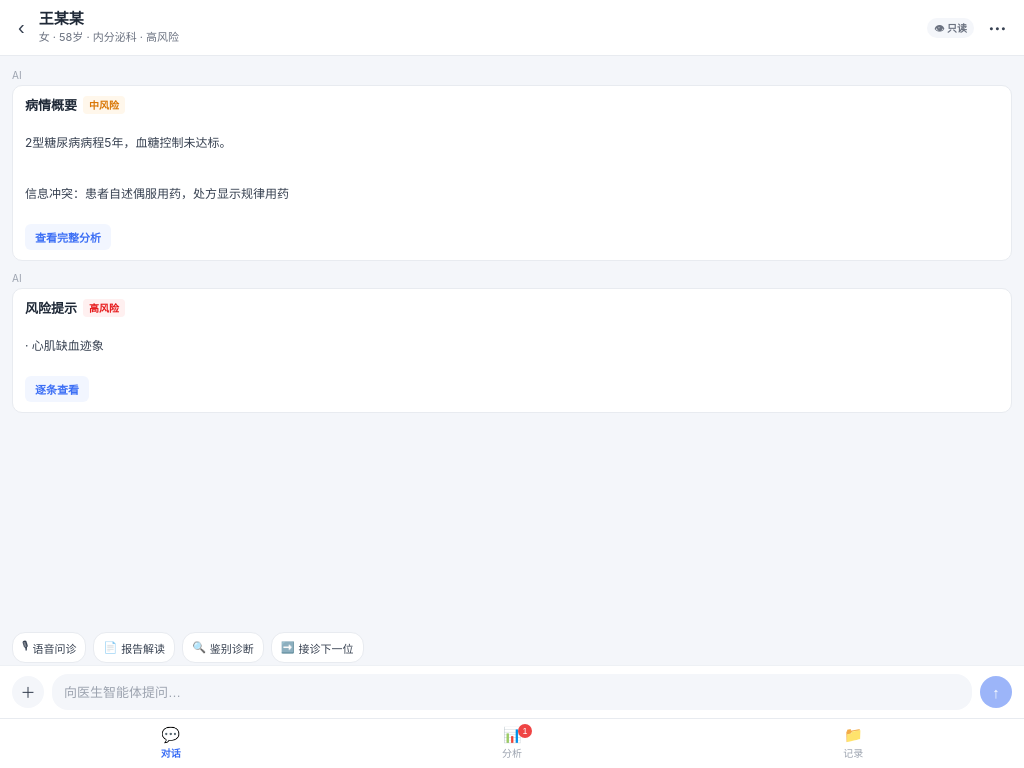
Test: 移动端工作站 · ＋ 菜单 › 点「预警评估」跳到分析页并展开那一块
What coordinates should you click on to do the following:
click the button "⋯"
I would click on:
 (997, 28)
Its box is [982,13,1012,43].
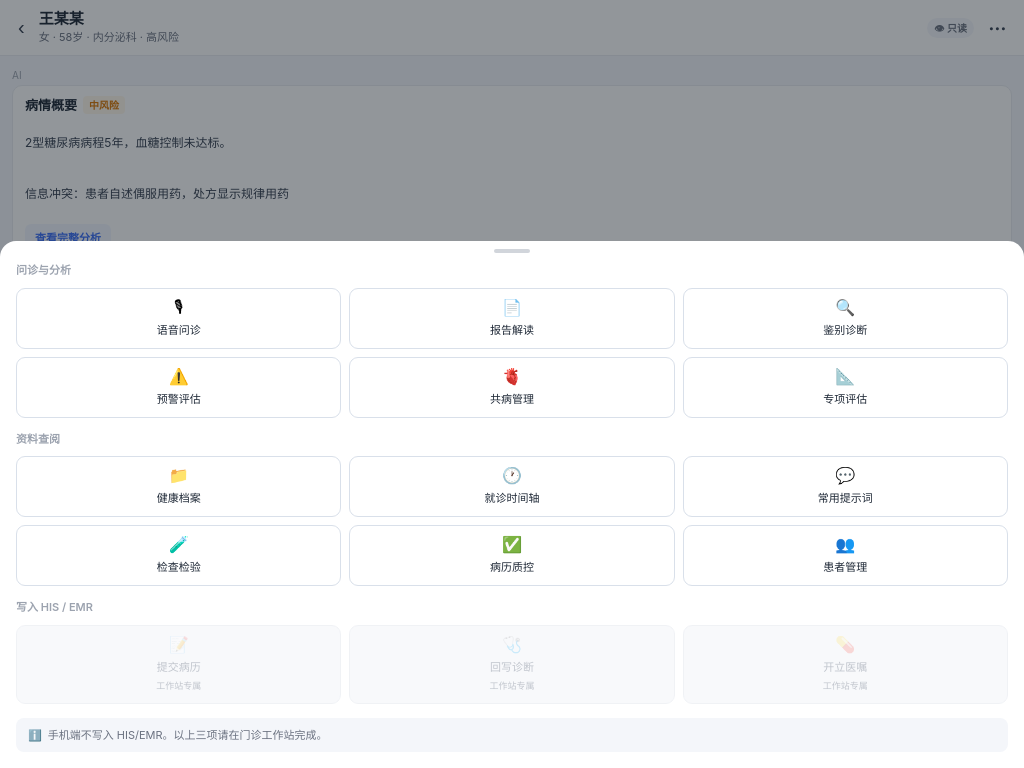
What coordinates should you click on to do the following:
click the button "⚠️ 预警评估"
I would click on:
 (179, 387)
Its box is [16,357,341,418].
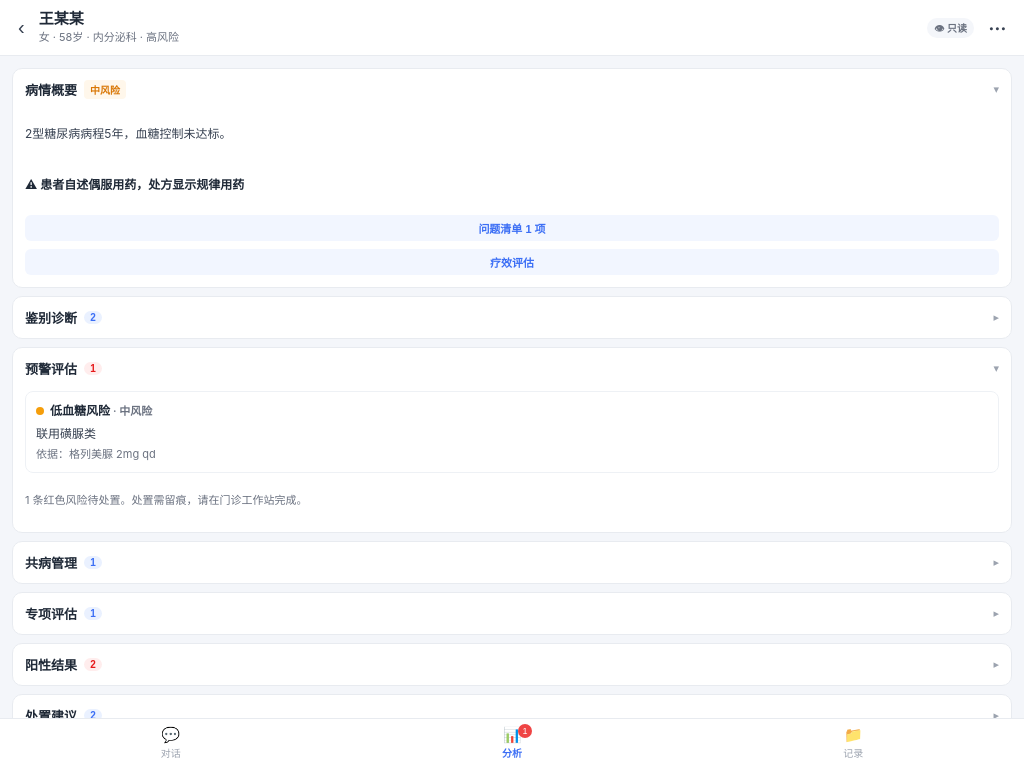
Expected: the button "📊 分析 1" is shown, [341,727,683,760]
Expected: the element showing "低血糖风险 · 中风险 联用磺脲类 依据：格列美脲 2mg qd 1 条红色风险待处置。处置需留痕，请在门诊工作站完成。" is shown, [13,388,1011,532]
